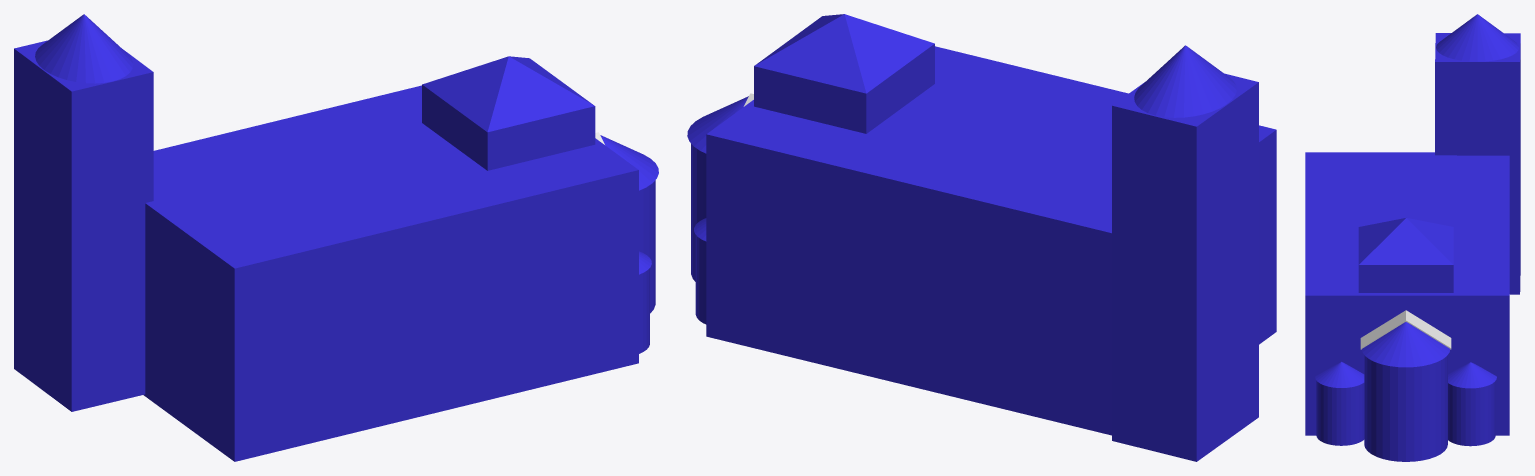
Rendered from Iglesia1.fbx.
The picture shows the model from 3 angles, left to right: view 1: azimuth 30°, elevation 25°; view 2: azimuth 150°, elevation 25°; view 3: azimuth 270°, elevation 25°; orthographic projection. The views are drawn at different scales.
Parts seen in each view (by area): view 1: Cube, Torre, PuntaCapilla, PuntaTorre, Cylinder.001, Cylinder; view 2: Cube, Torre, PuntaCapilla, PuntaTorre, Cylinder.001, Cylinder.002; view 3: Cube, Cylinder.001, Torre, PuntaCapilla, Cylinder, Cylinder.002, PuntaTorre, Cube.001.
Part boxes in pixels (x1,y1,x2,y2): Cube: [143, 85, 638, 461]; Torre: [14, 40, 153, 411]; PuntaCapilla: [422, 56, 595, 170]; PuntaTorre: [35, 14, 133, 83]; Cylinder.001: [600, 135, 658, 313]; Cylinder: [639, 251, 651, 353]; Cube: [706, 46, 1276, 435]; Torre: [1112, 73, 1258, 461]; PuntaCapilla: [754, 14, 934, 133]; PuntaTorre: [1134, 45, 1236, 117]; Cylinder.001: [687, 96, 748, 281]; Cylinder.002: [694, 218, 706, 324]; Cube: [1305, 152, 1509, 435]; Cylinder.001: [1362, 322, 1450, 461]; Torre: [1435, 33, 1520, 294]; PuntaCapilla: [1358, 217, 1453, 292]; Cylinder: [1315, 362, 1364, 445]; Cylinder.002: [1448, 362, 1496, 446]; PuntaTorre: [1436, 14, 1518, 61]; Cube.001: [1360, 310, 1451, 349].
Size of the model in its own units: 55.85 by 35.23 by 25.72.
